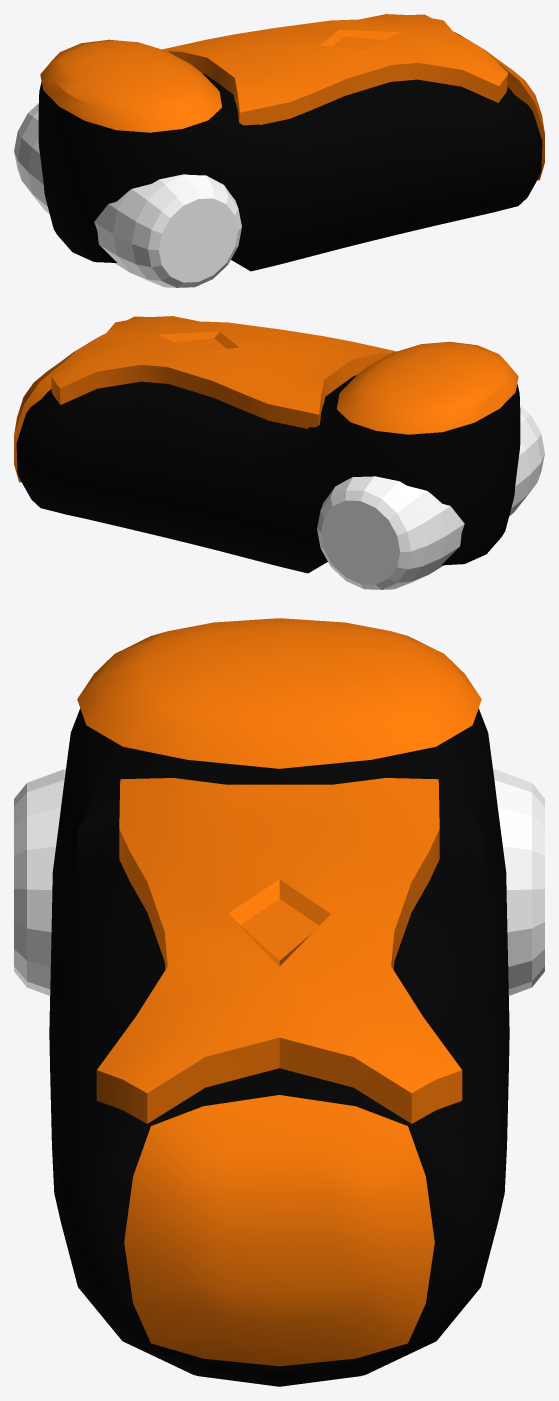
Rendered from new_simHand_id41.fbx.
3 renders of one model, top to bottom at view 1: azimuth 30°, elevation 25°; view 2: azimuth 150°, elevation 25°; view 3: azimuth 270°, elevation 25°, orthographic. The views are drawn at different scales.
Parts seen in each view (by area): view 1: Cube.013, Cylinder.007; view 2: Cube.013, Cylinder.007; view 3: Cube.013, Cylinder.007.
Boxes of the visible parts, left/top/right/bottom form: Cube.013: left=38, top=14, right=544, bottom=271; Cylinder.007: left=14, top=103, right=241, bottom=287; Cube.013: left=14, top=316, right=520, bottom=573; Cylinder.007: left=317, top=405, right=544, bottom=589; Cube.013: left=49, top=618, right=509, bottom=1386; Cylinder.007: left=14, top=769, right=544, bottom=995.
Bounding box in the file's own units: 46.34 × 21.12 × 24.59.
